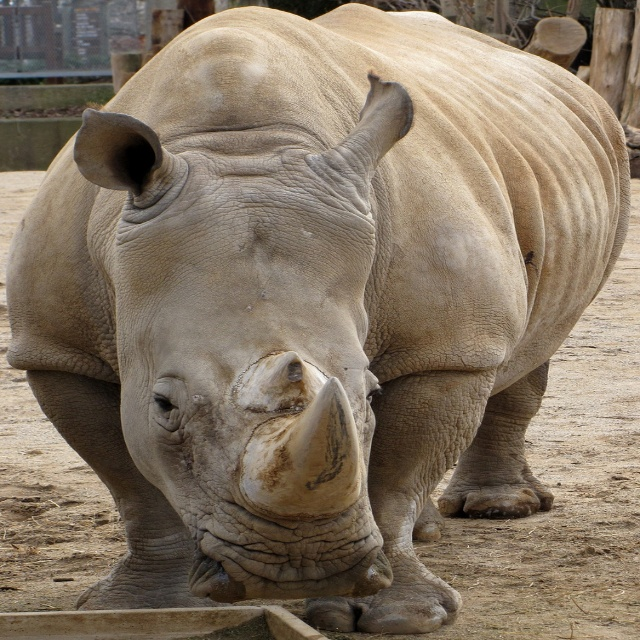Rhinoceros: (0, 0, 632, 634)
